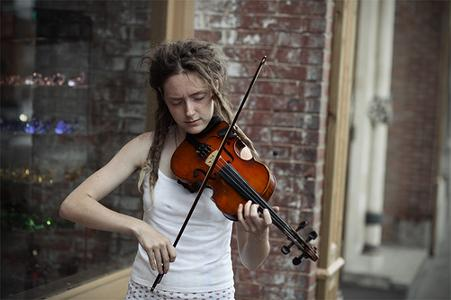person: (58, 41, 285, 300)
